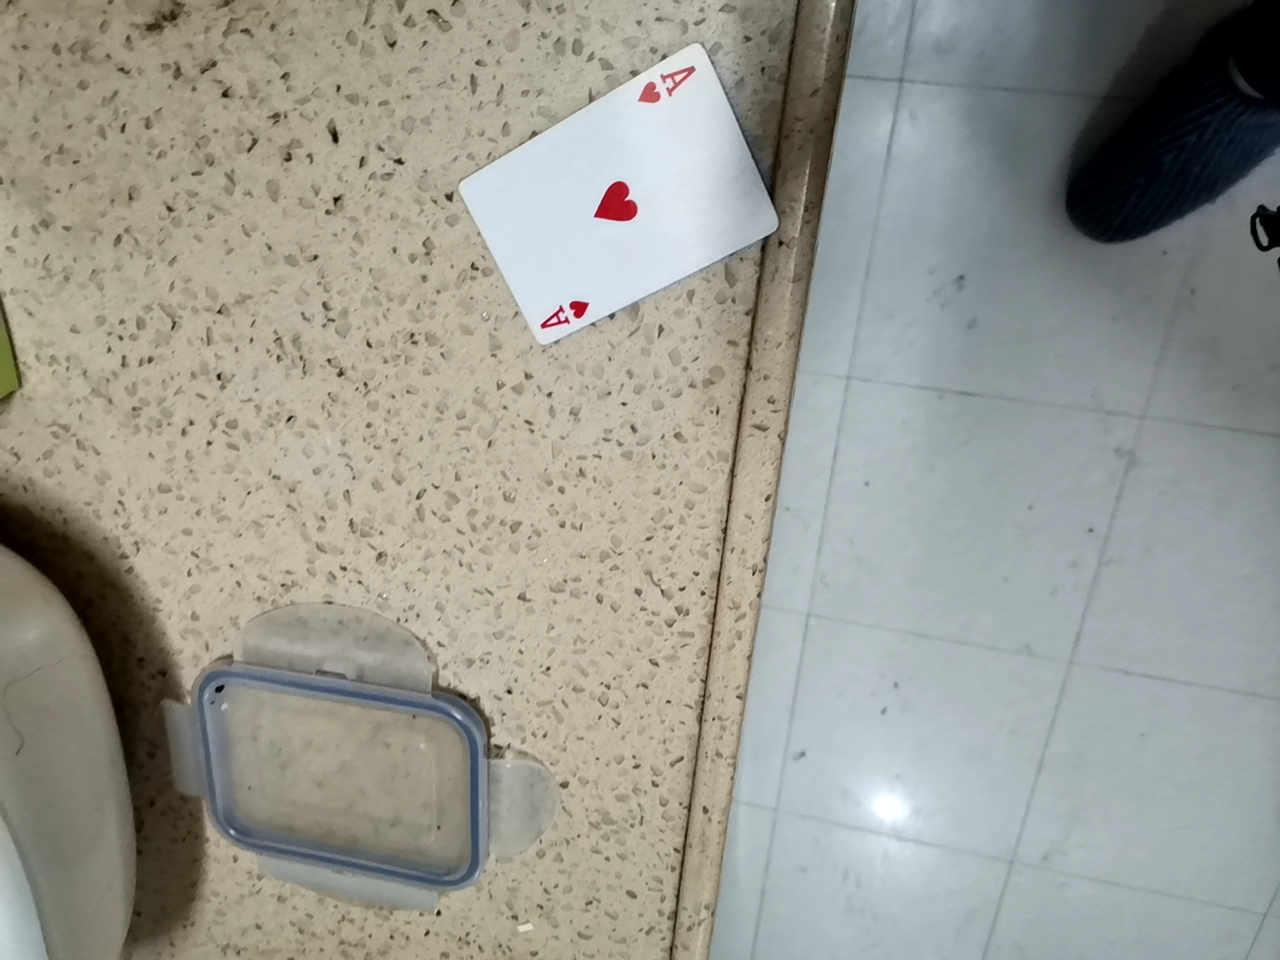hx a: (465, 68, 762, 343)
